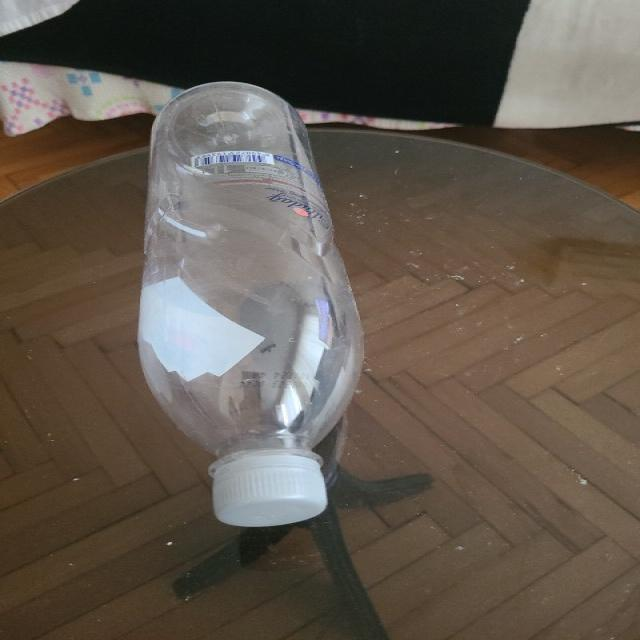bottle: (137, 81, 366, 527)
